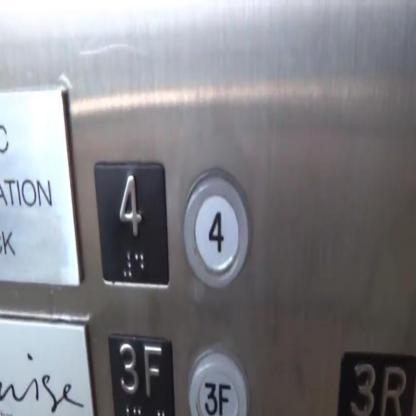3F: (106, 329, 177, 415), (186, 343, 249, 415)
4: (91, 158, 173, 296), (180, 164, 254, 294)
